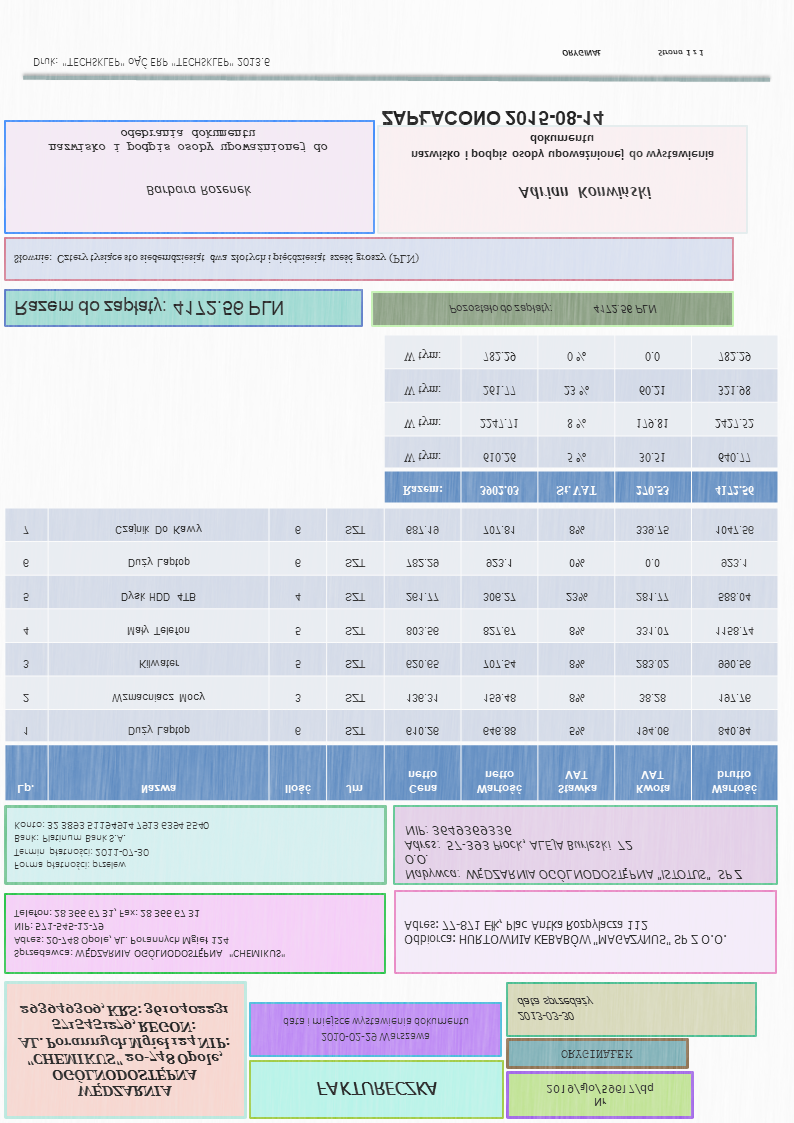Table: (2, 505, 780, 802), (382, 333, 780, 505)
TextBox: (15, 999, 234, 1099), (401, 822, 745, 885), (10, 904, 289, 962), (401, 915, 729, 950), (12, 819, 209, 874), (408, 133, 720, 165), (47, 126, 331, 159), (11, 249, 421, 268), (13, 295, 286, 321), (279, 1013, 471, 1047), (378, 107, 604, 131), (29, 54, 275, 73), (445, 299, 658, 318), (544, 1080, 657, 1110), (514, 992, 596, 1027), (313, 1079, 439, 1101), (515, 183, 653, 202), (560, 46, 707, 62), (142, 182, 256, 200), (557, 1047, 636, 1064)
